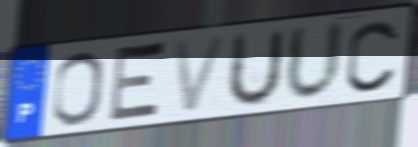C: (343, 18, 403, 96)
E: (106, 39, 170, 126)
O: (49, 49, 105, 128)
U: (282, 17, 347, 105), (223, 26, 287, 111)
V: (171, 32, 231, 118)
